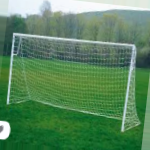goals: (6, 29, 142, 134)
